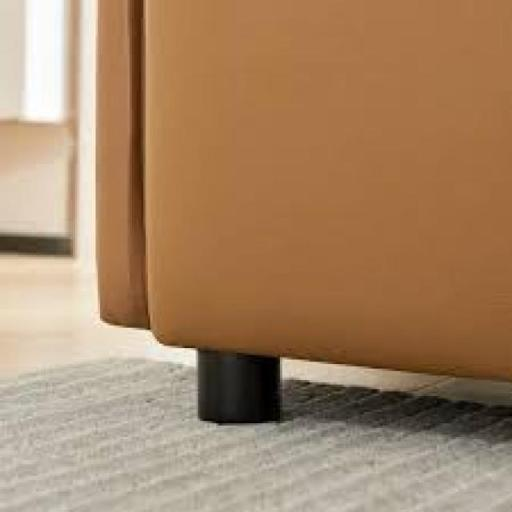sofa: (82, 6, 512, 436)
